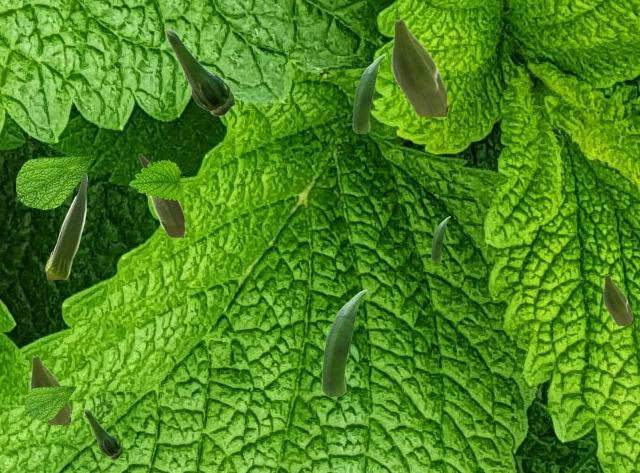okra: (164, 28, 234, 115), (391, 18, 446, 115), (321, 289, 366, 395), (45, 173, 86, 278), (138, 153, 184, 236), (30, 355, 69, 423), (352, 54, 384, 132), (83, 408, 122, 458), (603, 274, 631, 324), (431, 216, 449, 261)
